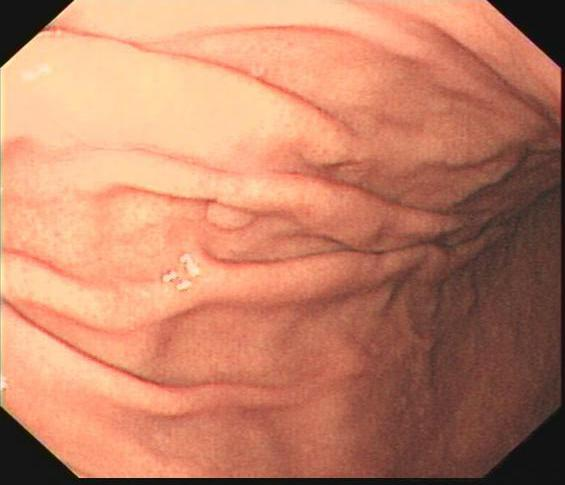Polyp: (188, 177, 285, 244)
